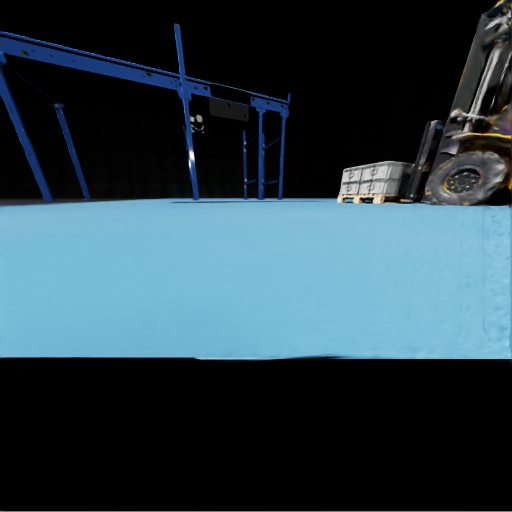transportation_area: (359, 178, 408, 194), (195, 87, 196, 88), (179, 84, 180, 85)
